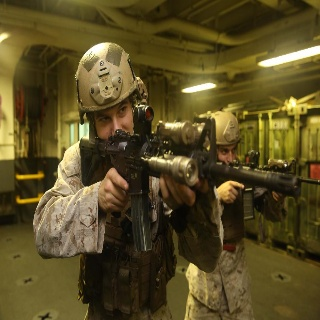rifle: (79, 101, 319, 251)
